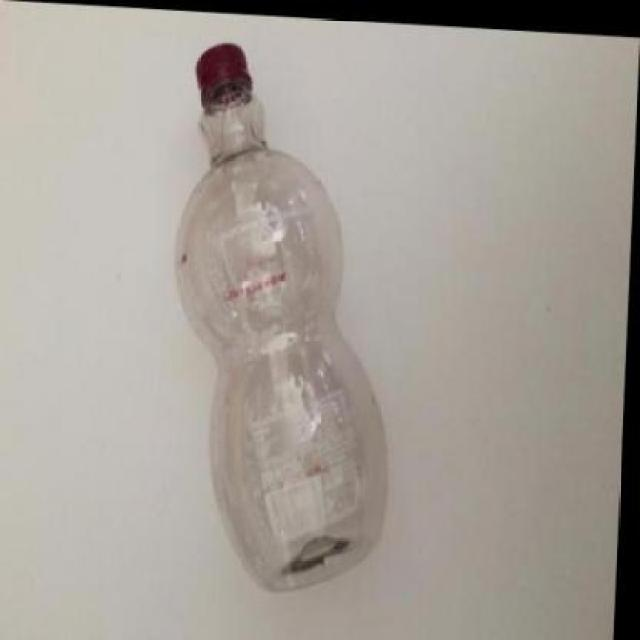Plastic: (159, 37, 391, 600)
